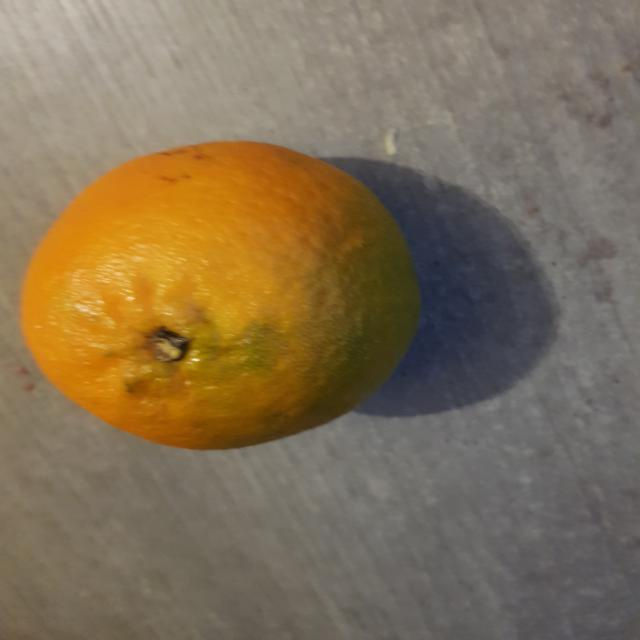Orange: (18, 141, 423, 454)
